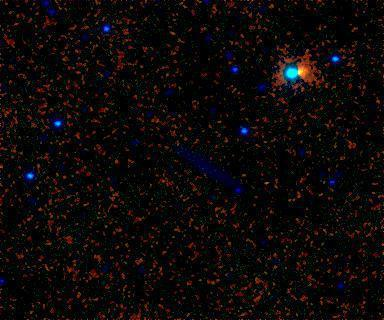star: (287, 56, 317, 86)
